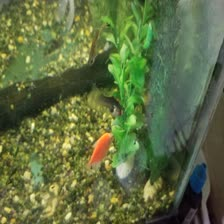Plano: (86, 125, 117, 169)
